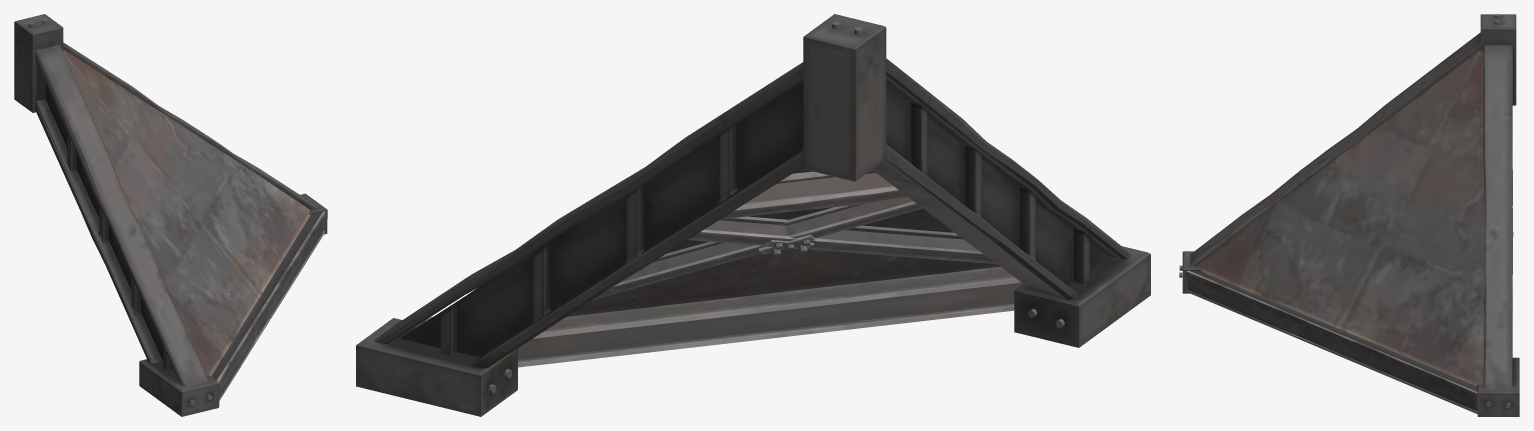
File: SM_SlopeRoofCorner_Iron_c48c35.glb
3 views of the same model, side by side, from view 1: azimuth 30°, elevation 25°; view 2: azimuth 150°, elevation 25°; view 3: azimuth 270°, elevation 25° (orthographic). The views are drawn at different scales.
Size of the model in its own units: 4.15 by 3.61 by 4.18.
Materials: 1 (1 with a texture image).
